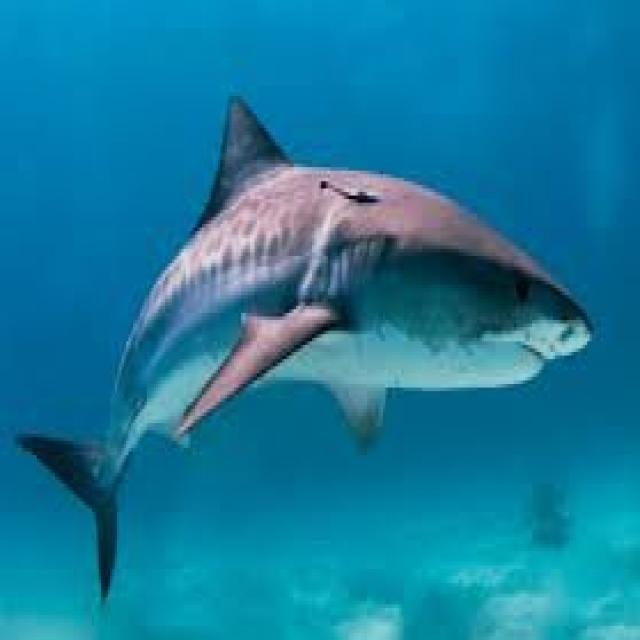shark: (18, 100, 590, 594), (321, 181, 378, 199)
